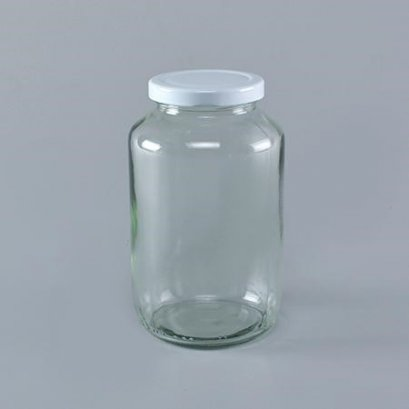glass_bottle: (114, 57, 304, 364)
